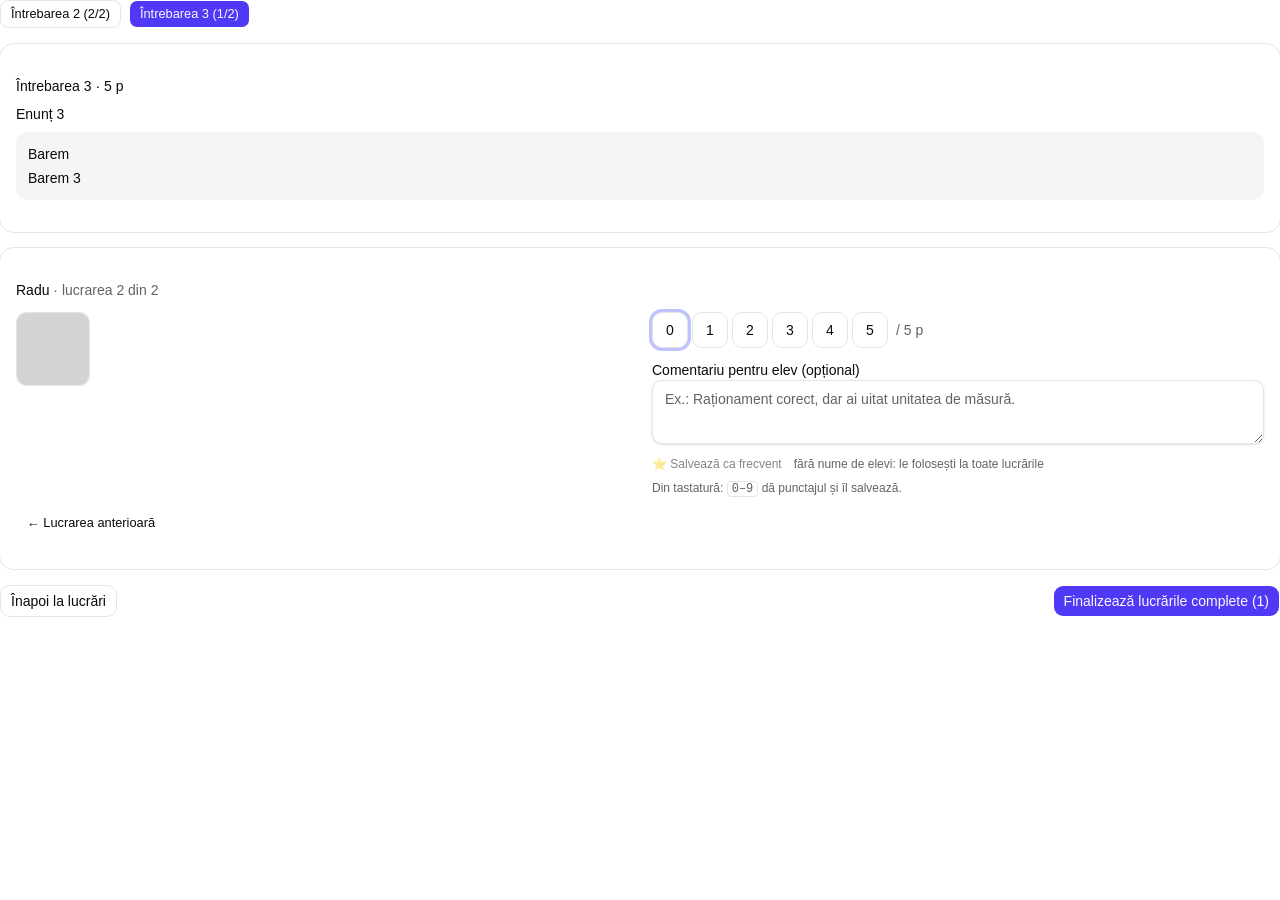
Scenario: GradeByItem › finalises only the papers whose every open question has points
Click the button "Finalizează lucrările complete (1)": (1166, 601) [1053,585,1279,617]
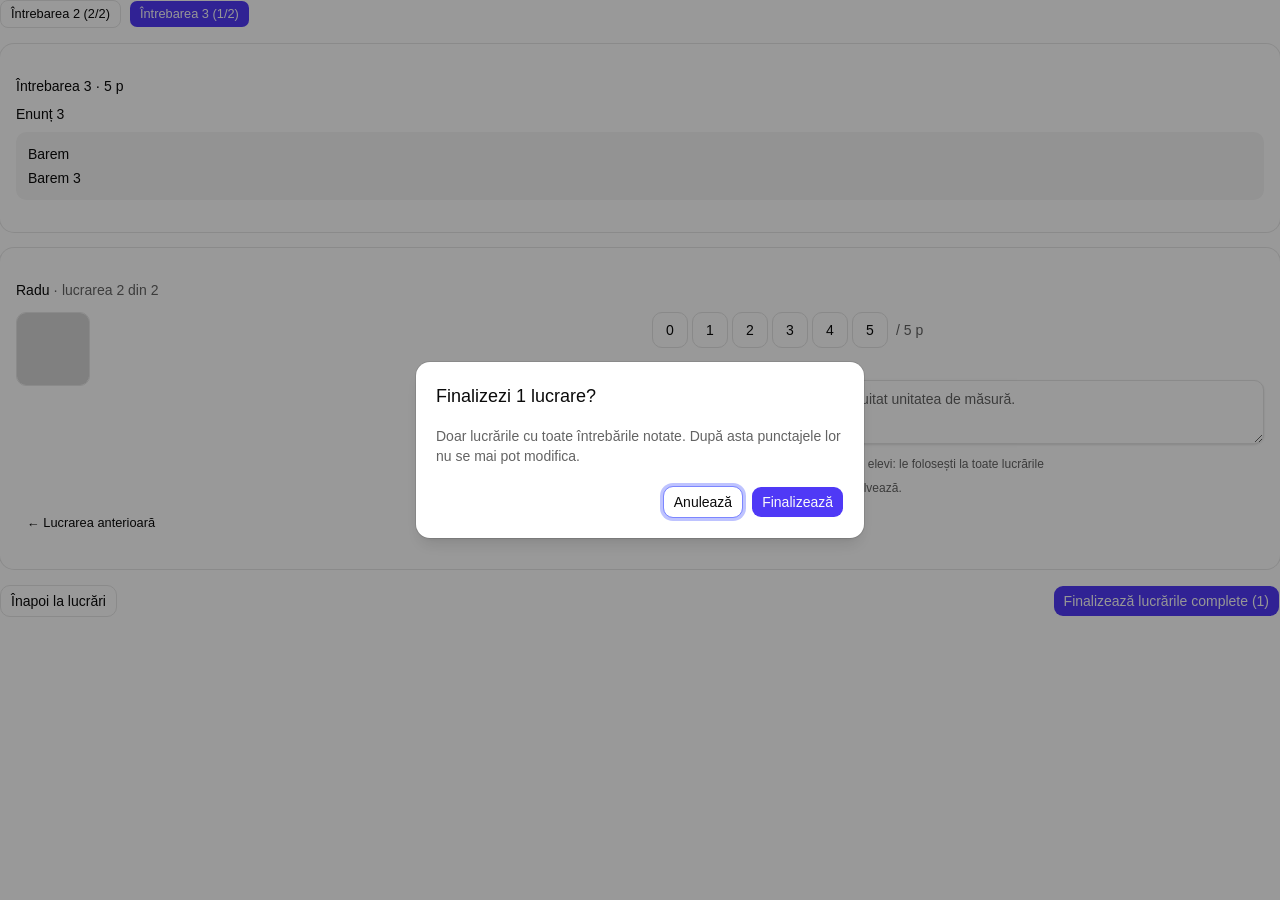
Click the button "Finalizează": (798, 502) [751,486,844,518]
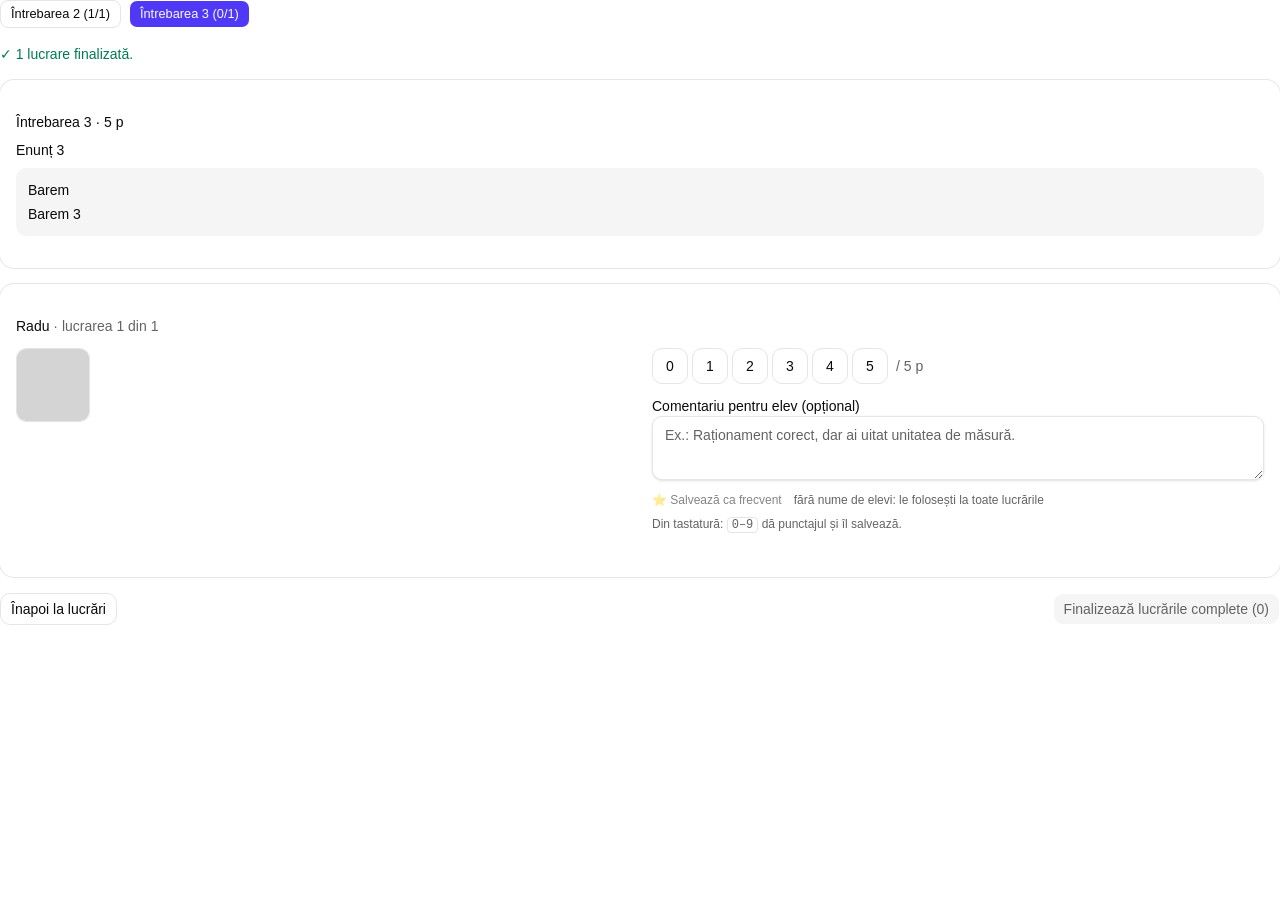
Expected: the text "✓ 1 lucrare finalizată." is shown, [0,46,133,62]
Expected: the button "Întrebarea 2 (1/1)" is shown, [0,0,121,28]
